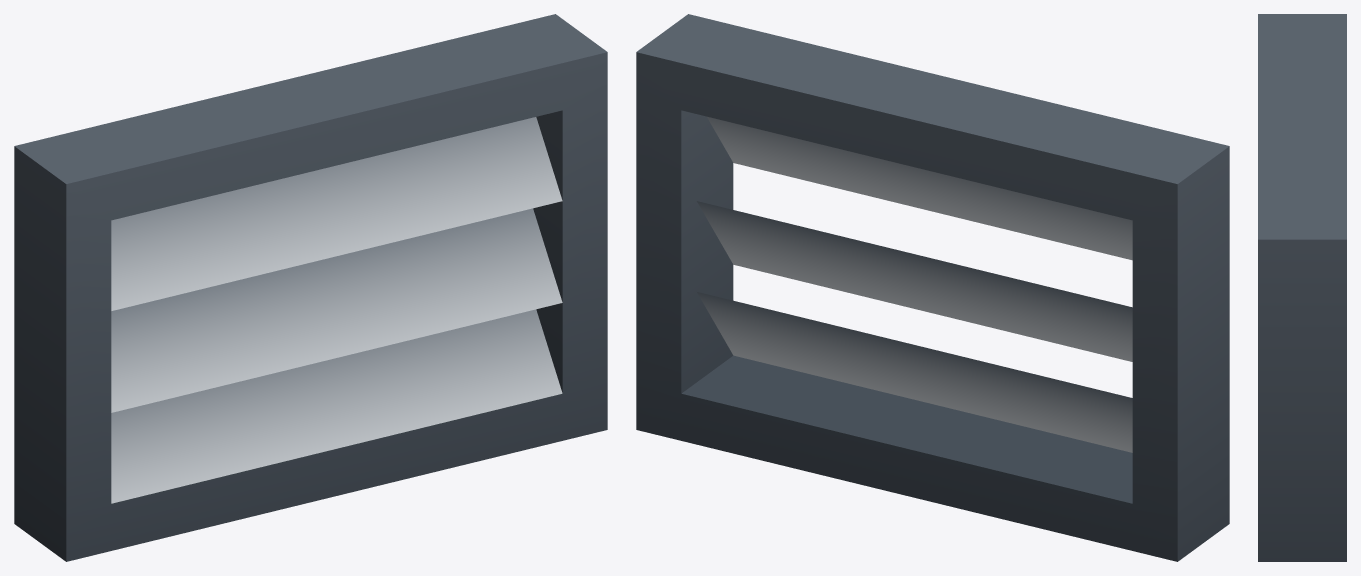
The model's file is wall-window-shutters.glb.
3 views of the same model, side by side, from view 1: azimuth 30°, elevation 25°; view 2: azimuth 150°, elevation 25°; view 3: azimuth 270°, elevation 25° (orthographic). The views are drawn at different scales.
Visible parts, largest first — view 1: wall-window-shutters; view 2: wall-window-shutters; view 3: wall-window-shutters.
Boxes of the visible parts, x1,y1,x2,y2 form: wall-window-shutters: (14, 14, 607, 561); wall-window-shutters: (636, 14, 1229, 561); wall-window-shutters: (1258, 14, 1346, 561).
Bounding box in the file's own units: 0.6 × 0.4 × 0.1.
